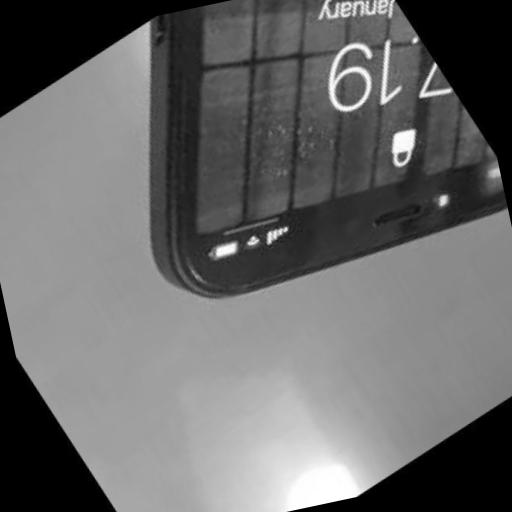phone: (148, 0, 508, 304)
